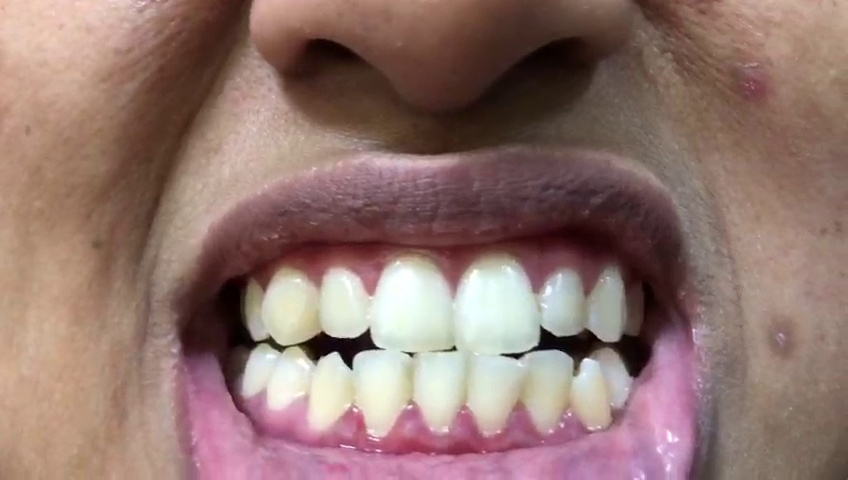1st Premolar: (267, 346, 312, 414), (590, 348, 631, 411), (244, 278, 268, 341)
2nd Premolar: (242, 346, 281, 402)
Canine: (265, 264, 318, 347), (307, 352, 350, 433), (570, 358, 611, 434), (588, 268, 625, 342)
Central Incisor: (456, 254, 541, 355), (370, 256, 455, 350), (465, 351, 525, 436), (412, 350, 467, 434)
Lateral Incisor: (352, 351, 412, 440), (522, 348, 570, 435), (320, 268, 370, 340), (539, 262, 587, 336)
